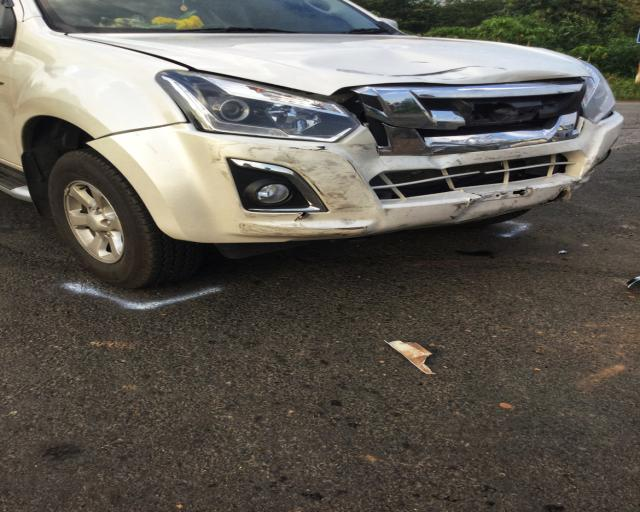crack: (453, 188, 482, 196)
dent: (256, 39, 563, 85), (456, 195, 510, 221), (428, 154, 464, 168)
scratch: (236, 143, 372, 238)
